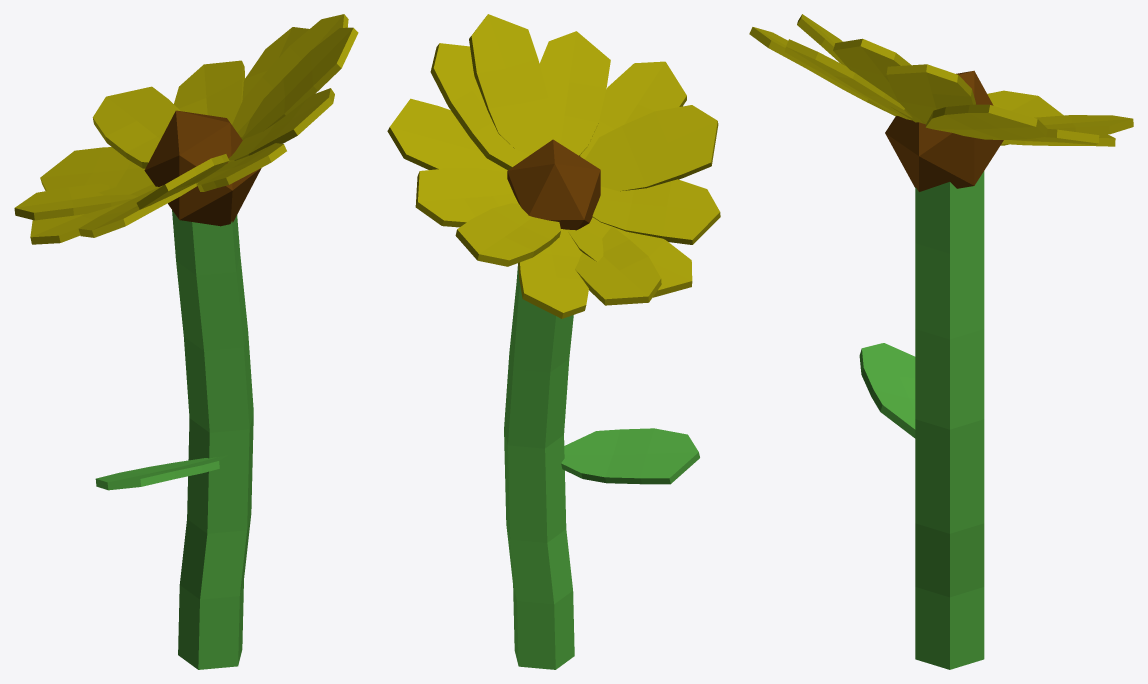
Rendered from YellowFlower.fbx.
The picture shows the model from 3 angles, left to right: view 1: azimuth 30°, elevation 25°; view 2: azimuth 150°, elevation 25°; view 3: azimuth 270°, elevation 25°; orthographic projection. The views are drawn at different scales.
Visible parts, largest first — view 1: YellowFlower; view 2: YellowFlower; view 3: YellowFlower.
Part boxes in pixels (x1,y1,x2,y2): YellowFlower: (14,14,358,669); YellowFlower: (387,14,720,669); YellowFlower: (749,14,1133,669).
Size of the model in its own units: 1.49 by 3.05 by 1.59.
